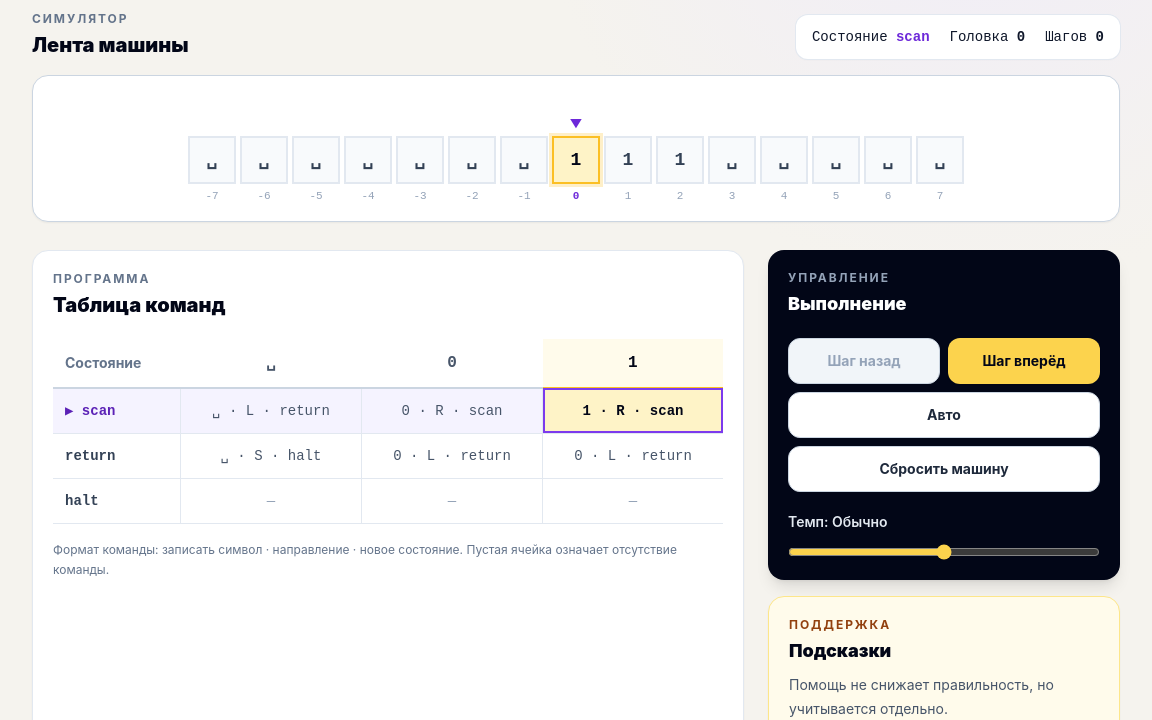
Scenario: экран учебной задачи › показывает мгновенный шаг задачи 5 без отметок выполнения фаз
The image size is (1152, 720).
(page scrolled)
Click the button "Шаг вперёд" at (1024, 360), box [948,338,1100,384]
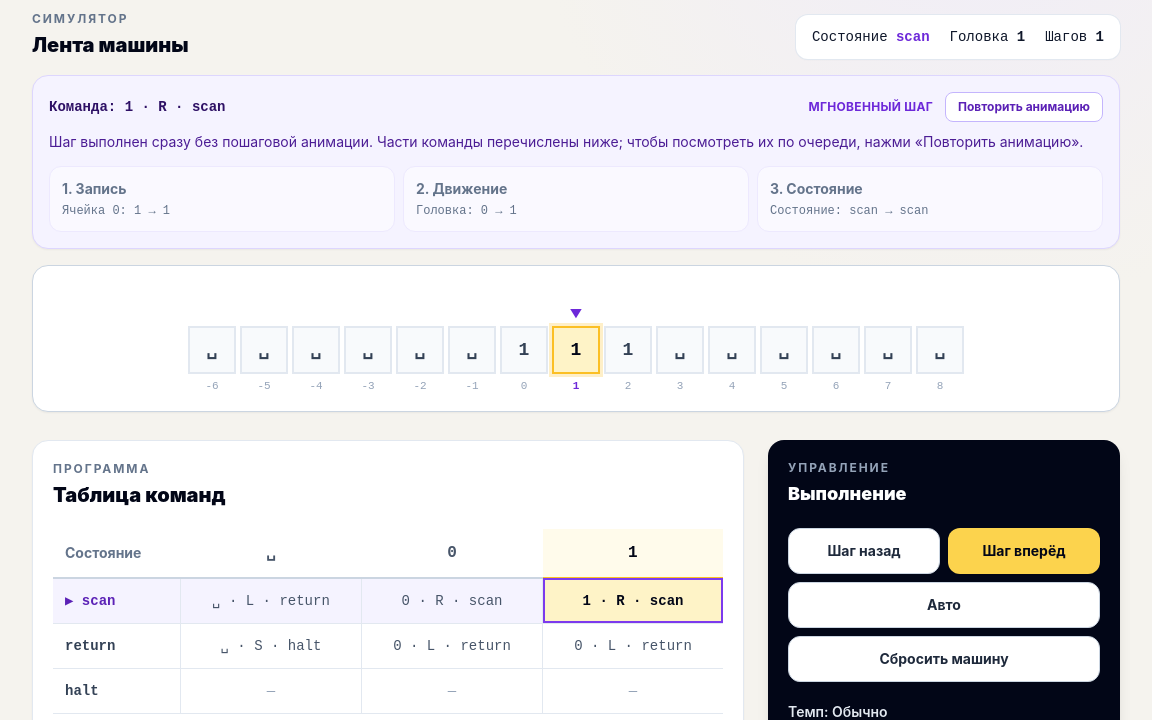
Expected: the element with test id "step-explanation" does not show "Шаг завершён", [32,75,1120,249]
Expected: the element with test id "step-explanation" shows "Мгновенный шаг", [808,99,933,114]
